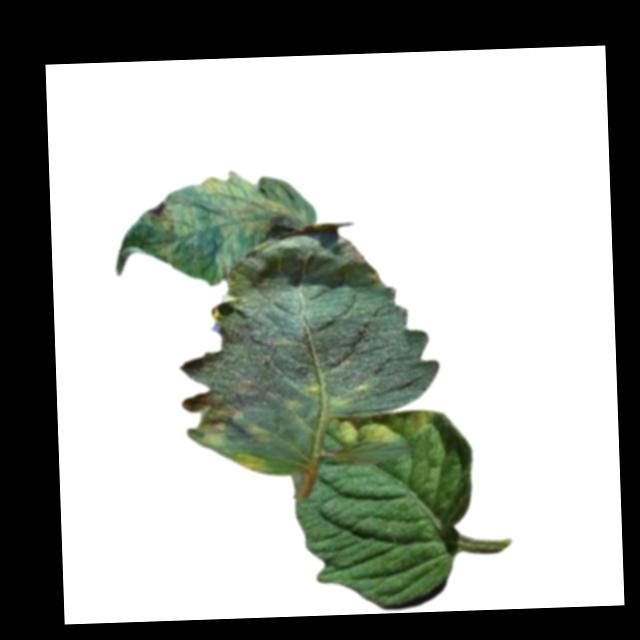Leaf_Mold: (203, 168, 290, 285), (185, 375, 267, 450), (328, 409, 435, 452), (142, 195, 202, 239), (233, 449, 267, 475)
